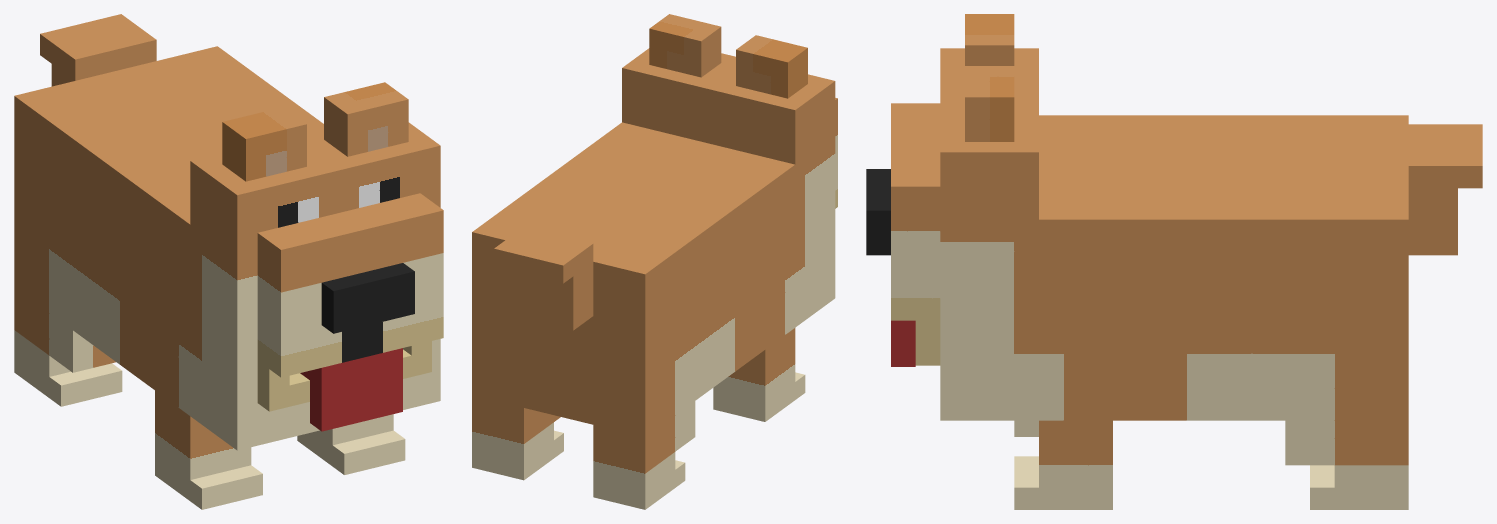
3 views of the same model, side by side, from view 1: azimuth 30°, elevation 25°; view 2: azimuth 150°, elevation 25°; view 3: azimuth 270°, elevation 25° (orthographic). The views are drawn at different scales.
Visible parts, largest first — view 1: Matrix; view 2: Matrix; view 3: Matrix.
Part boxes in pixels (x1=…): Matrix: x1=14, y1=14, x2=443, y2=509; Matrix: x1=472, y1=14, x2=837, y2=509; Matrix: x1=866, y1=14, x2=1482, y2=509.
Bounding box in the file's own units: 10 × 18 × 25.
Materials: 1 (1 with a texture image).
